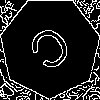C: (25, 22, 81, 81)
